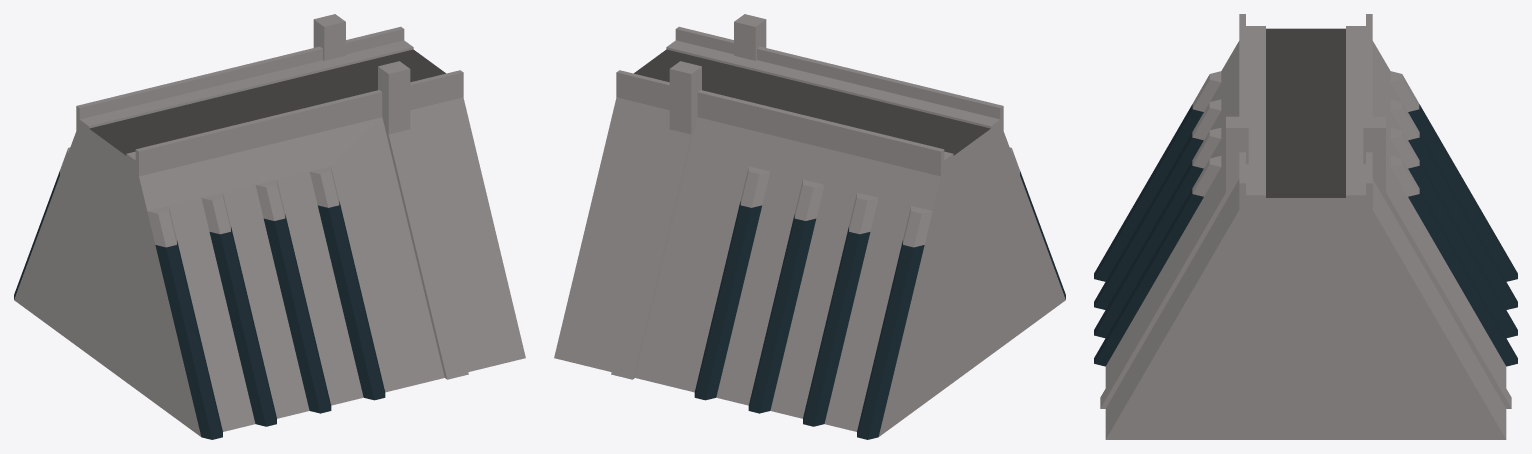
The model's file is dam-branch.glb.
3 renders of one model, left to right at view 1: azimuth 30°, elevation 25°; view 2: azimuth 150°, elevation 25°; view 3: azimuth 270°, elevation 25°, orthographic. The views are drawn at different scales.
Parts seen in each view (by area): view 1: dam-branch; view 2: dam-branch; view 3: dam-branch.
Part boxes in pixels (x1,y1,x2,y2): dam-branch: [14, 14, 525, 439]; dam-branch: [554, 14, 1065, 439]; dam-branch: [1094, 14, 1517, 439].
Bounding box in the file's own units: 30 × 23.2 × 31.73.
1 material, 1 textured.
